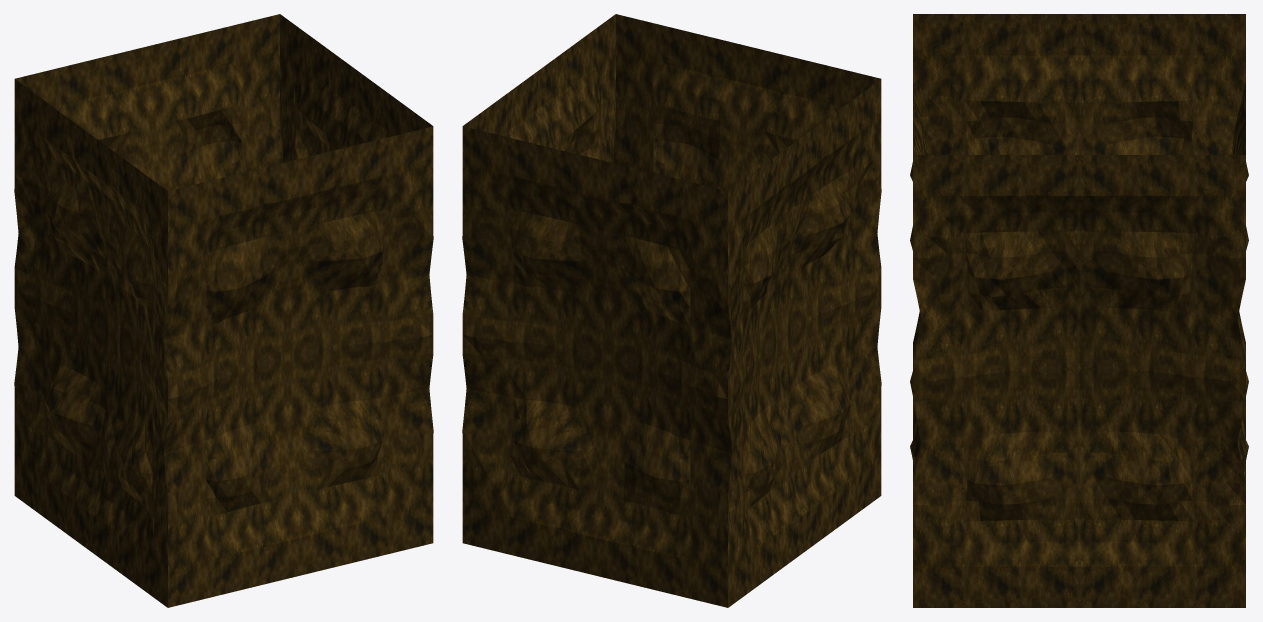
File: mur_text.obj
3 views of the same model, side by side, from view 1: azimuth 30°, elevation 25°; view 2: azimuth 150°, elevation 25°; view 3: azimuth 270°, elevation 25° (orthographic). The views are drawn at different scales.
Parts seen in each view (by area): view 1: Cube_Cube.001; view 2: Cube_Cube.001; view 3: Cube_Cube.001.
Boxes of the visible parts, x1,y1,x2,y2 form: Cube_Cube.001: [14, 14, 433, 607]; Cube_Cube.001: [462, 14, 881, 607]; Cube_Cube.001: [910, 14, 1248, 607].
Bounding box in the file's own units: 2.03 × 3 × 2.03.
1 material, 1 textured.
